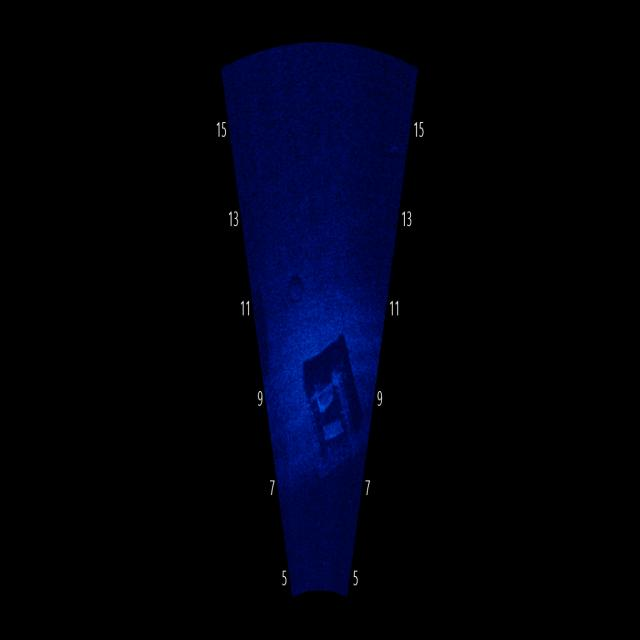square: (301, 350, 361, 481)
